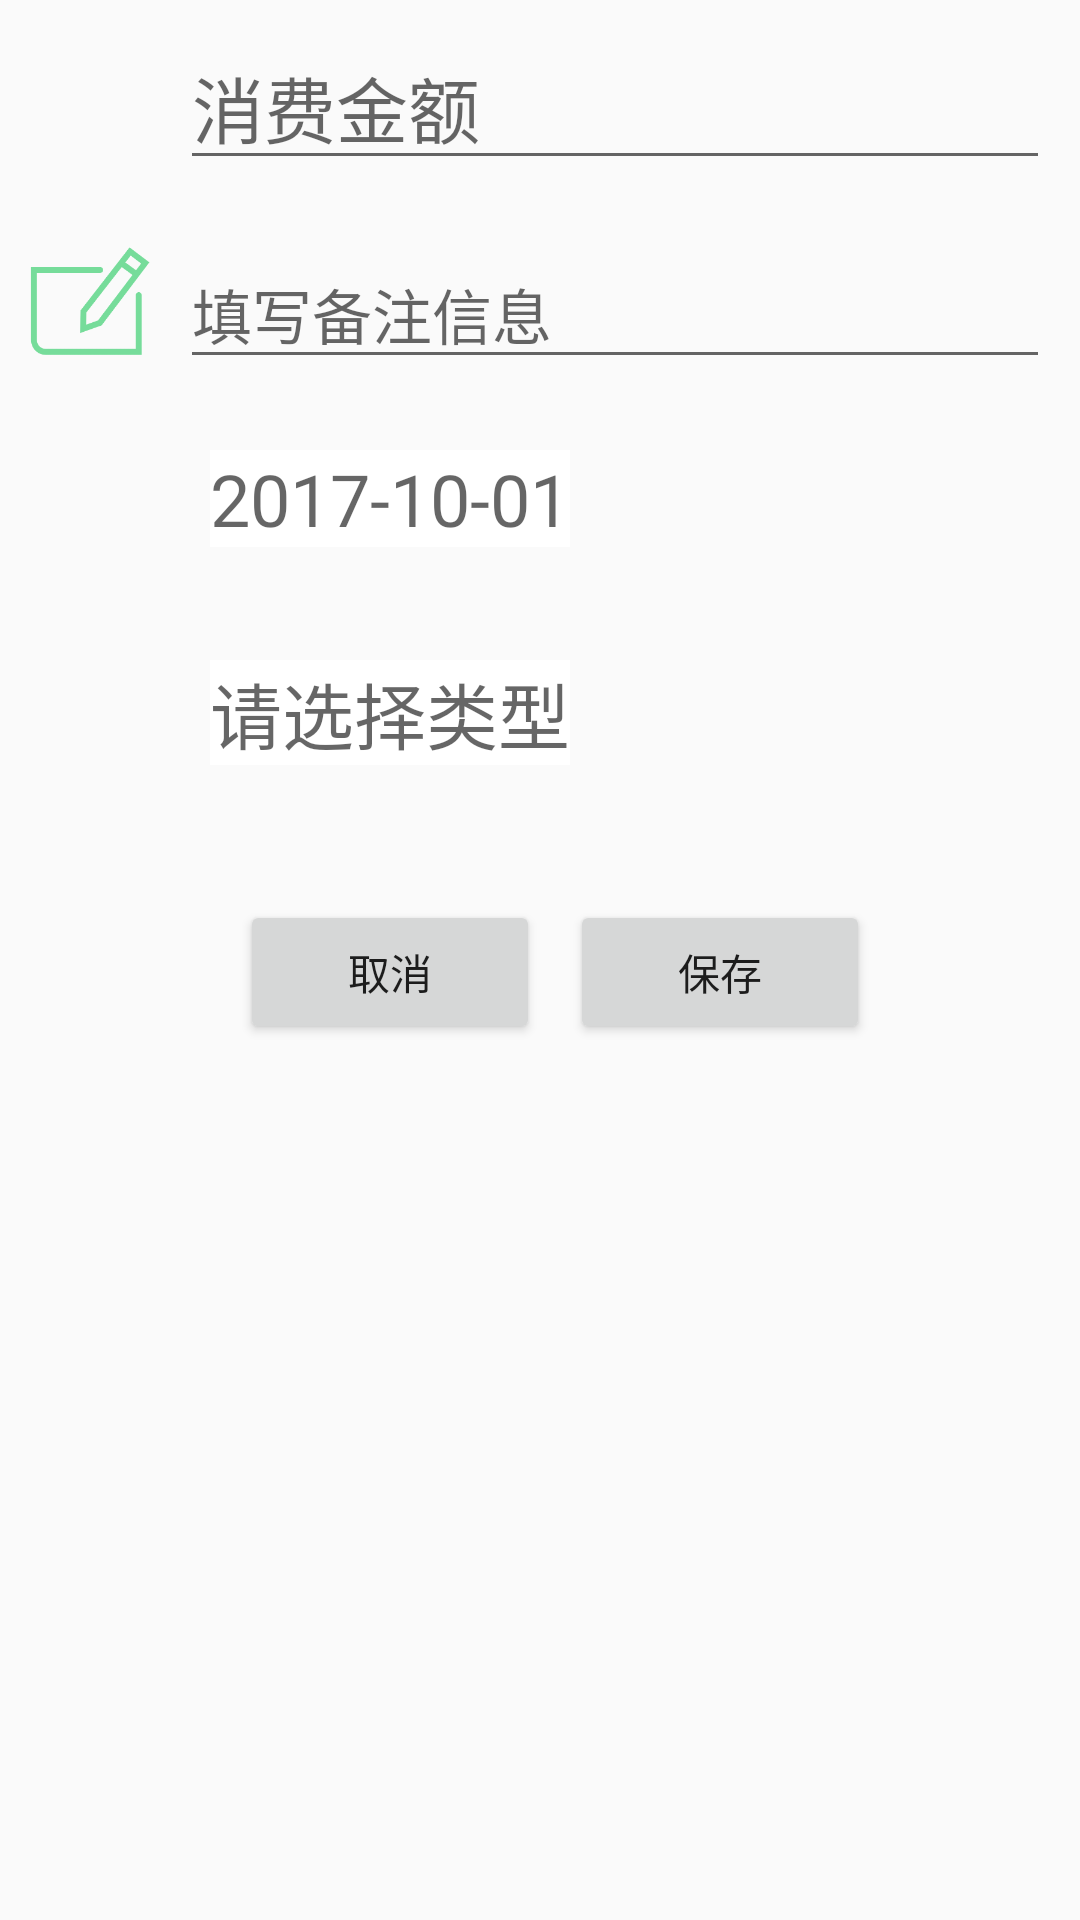

Icon bounding boxes for this 1080 × 1920 phone screenshot, format (x1, y1, x2, y2):
cost remarks: (31, 247, 150, 355)
